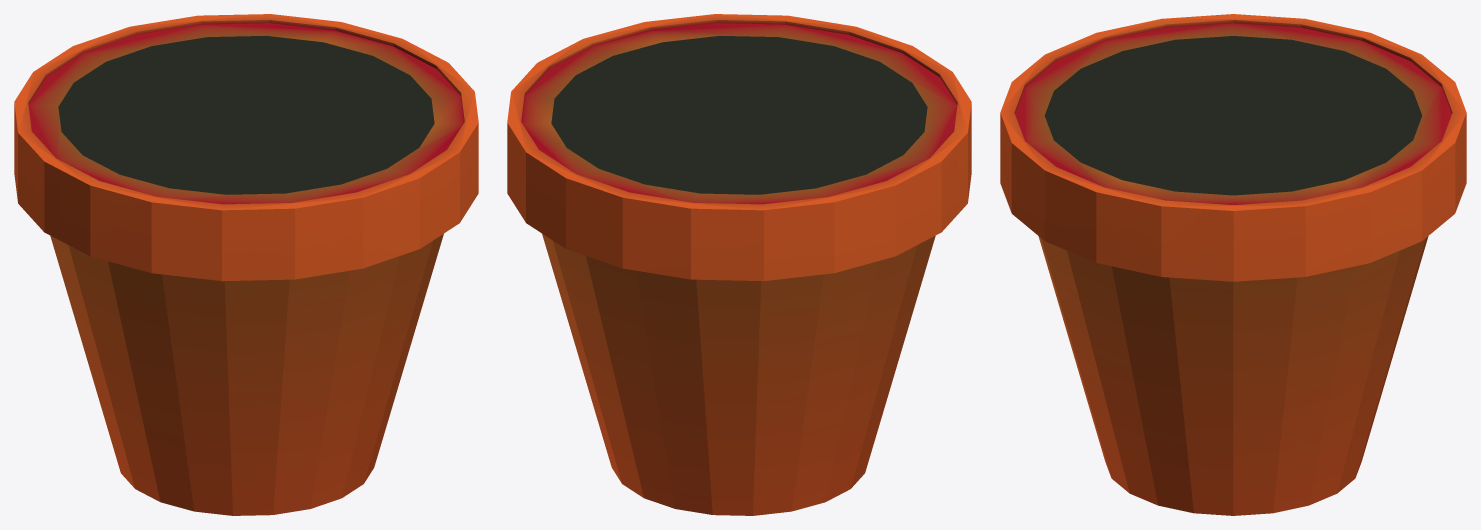
3 renders of one model, left to right at view 1: azimuth 30°, elevation 25°; view 2: azimuth 150°, elevation 25°; view 3: azimuth 270°, elevation 25°, orthographic.
Parts seen in each view (by area): view 1: body, collar, centre; view 2: body, collar, centre; view 3: body, collar, centre.
Part boxes in pixels (bbox=[...]): body: bbox=[50, 233, 443, 515]; collar: bbox=[14, 14, 478, 281]; centre: bbox=[58, 35, 434, 194]; body: bbox=[542, 233, 935, 515]; collar: bbox=[507, 14, 971, 281]; centre: bbox=[551, 35, 927, 194]; body: bbox=[1038, 236, 1428, 515]; collar: bbox=[1000, 14, 1466, 281]; centre: bbox=[1044, 36, 1422, 195].
Size of the model in its own units: 0.2 by 0.1653 by 0.2.
